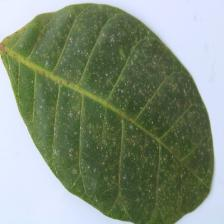red rust: (0, 2, 215, 224)
